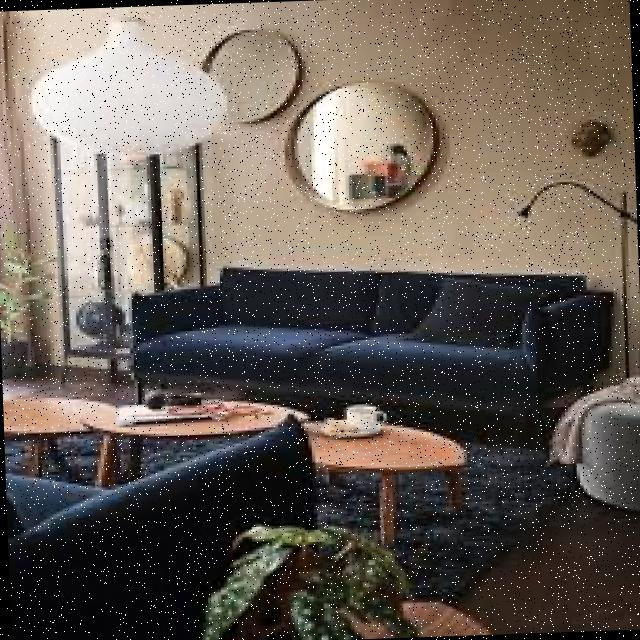Sofa: (61, 258, 624, 426), (3, 406, 358, 640)
